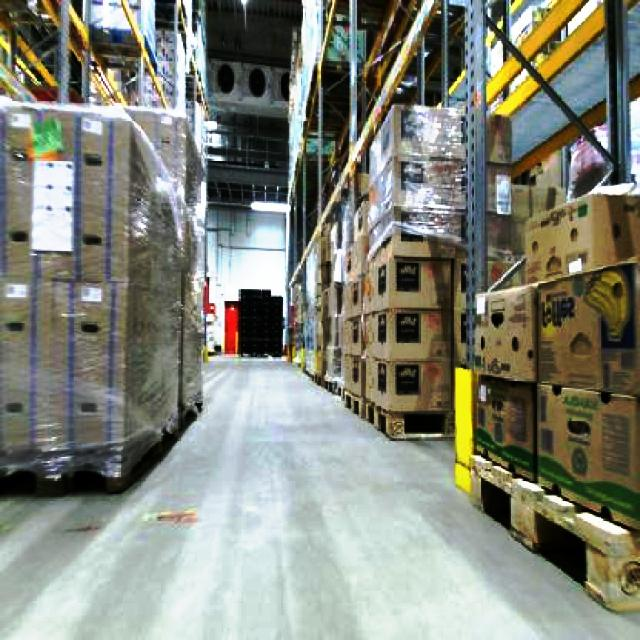ground: (0, 351, 638, 638)
pallet: (285, 0, 638, 637), (0, 91, 206, 497), (465, 180, 638, 614), (469, 451, 638, 612), (237, 288, 283, 357)
